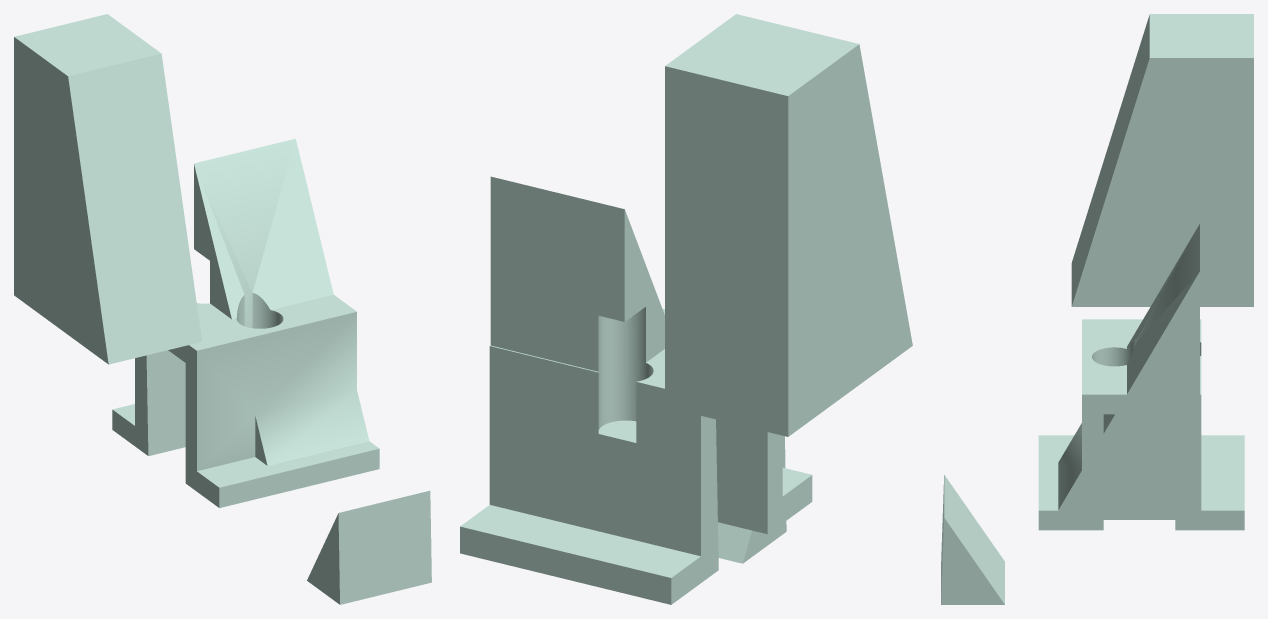
3 renders of one model, left to right at view 1: azimuth 30°, elevation 25°; view 2: azimuth 150°, elevation 25°; view 3: azimuth 270°, elevation 25°, orthographic. The views are drawn at different scales.
Parts seen in each view (by area): view 1: Renderer Node; view 2: Renderer Node; view 3: Renderer Node.
Part boxes in pixels (<box>): Renderer Node: <box>14,14,431,604</box>; Renderer Node: <box>460,14,912,604</box>; Renderer Node: <box>941,14,1253,604</box>.
Size of the model in its own units: 1.2 by 2.19 by 1.32.
